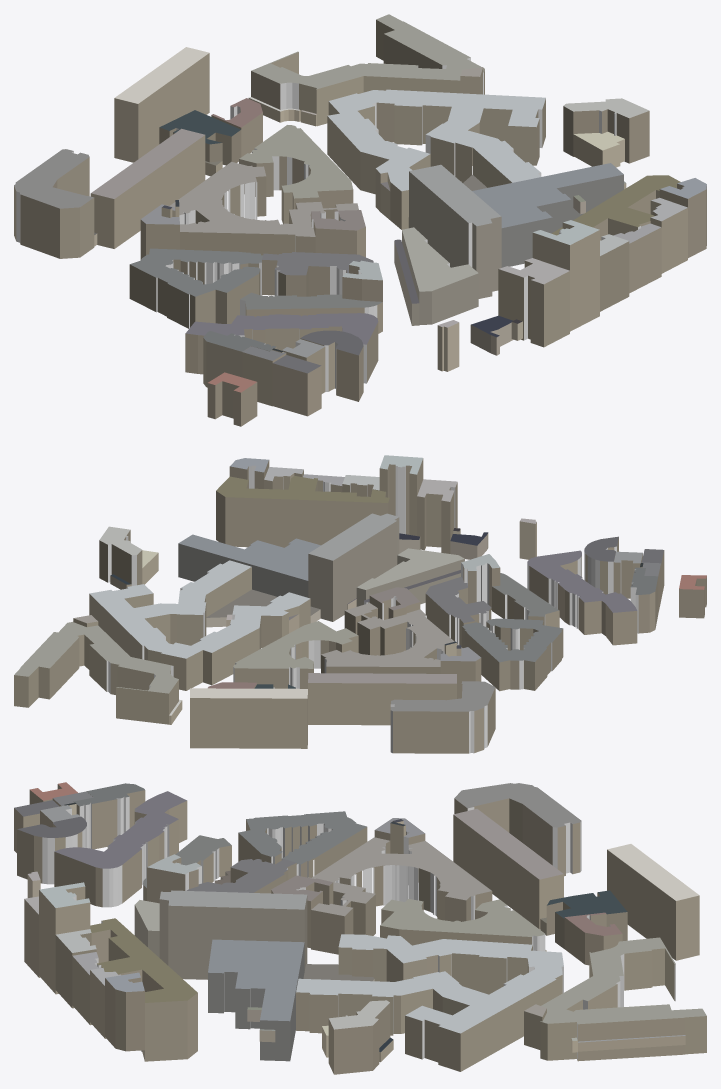
3 views of the same model, one above another, from view 1: azimuth 30°, elevation 25°; view 2: azimuth 150°, elevation 25°; view 3: azimuth 270°, elevation 25° (orthographic). The views are drawn at different scales.
Parts seen in each view (by area): view 1: tuile; view 2: tuile; view 3: tuile.
Boxes of the visible parts, left/top/right/bottom form: tuile: left=14, top=14, right=706, bottom=426; tuile: left=14, top=455, right=706, bottom=753; tuile: left=14, top=782, right=706, bottom=1074.
Bounding box in the file's own units: 264 × 42.3 × 276.
